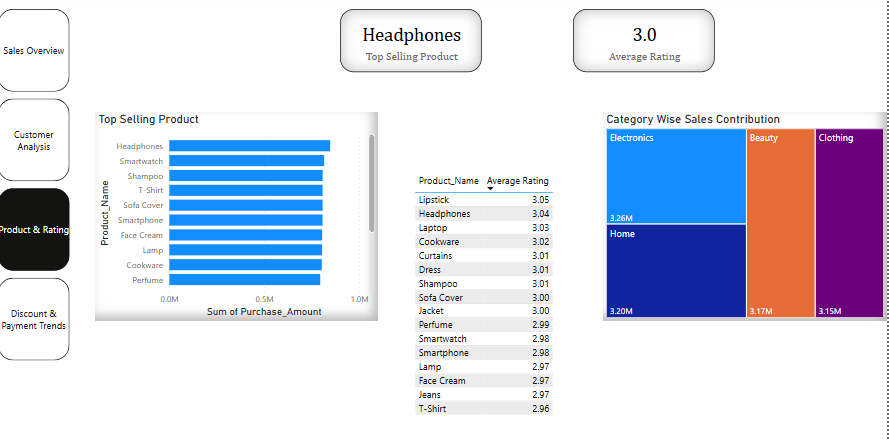

Layout of this report page (visuals, bound fields, positions):
{"tool":"powerbi","page":{"name":"Product & Rating","canvas":[1280,720],"ordinal":2},"visuals":[{"type":"card","fields":{"Values":["Measures (2).Top Selling Product"]},"box":[492.5,18.7,204.5,90.7],"z":0},{"type":"card","fields":{"Values":["Measures (2).Average Rating"]},"box":[828,18.7,204.5,90.7],"z":1000},{"type":"barChart","title":"Top Selling Product","fields":{"Category":["data.Product_Name"],"Y":["Sum(data.Purchase_Amount)"]},"box":[139.7,167,407.5,301],"z":2000},{"type":"treemap","title":"Category Wise Sales Contribution","fields":{"Group":["data.Category"],"Values":["Sum(data.Purchase_Amount)"]},"box":[871.2,167,409,301],"z":3000},{"type":"tableEx","fields":{"Values":["data.Product_Name","Measures (2).Average Rating"]},"box":[594.7,250.6,233.3,364.3],"z":4000},{"type":"pageNavigator","box":[0,18.7,103.7,509.8],"z":5000}]}

Visuals, with their boxes on the page's 1280x720 design canvas (x1, y1, x2, y2). These are canvas units, not pixel positions in the 889x440 screenshot, which may show the page scaled, cropped or inside an application window:
card - Measures (2).Top Selling Product: 492:19:697:109
card - Measures (2).Average Rating: 828:19:1032:109
"Top Selling Product" barChart: 140:167:547:468
"Category Wise Sales Contribution" treemap: 871:167:1280:468
tableEx - data.Product_Name x Measures (2).Average Rating: 595:251:828:615
pageNavigator: 0:19:104:528
